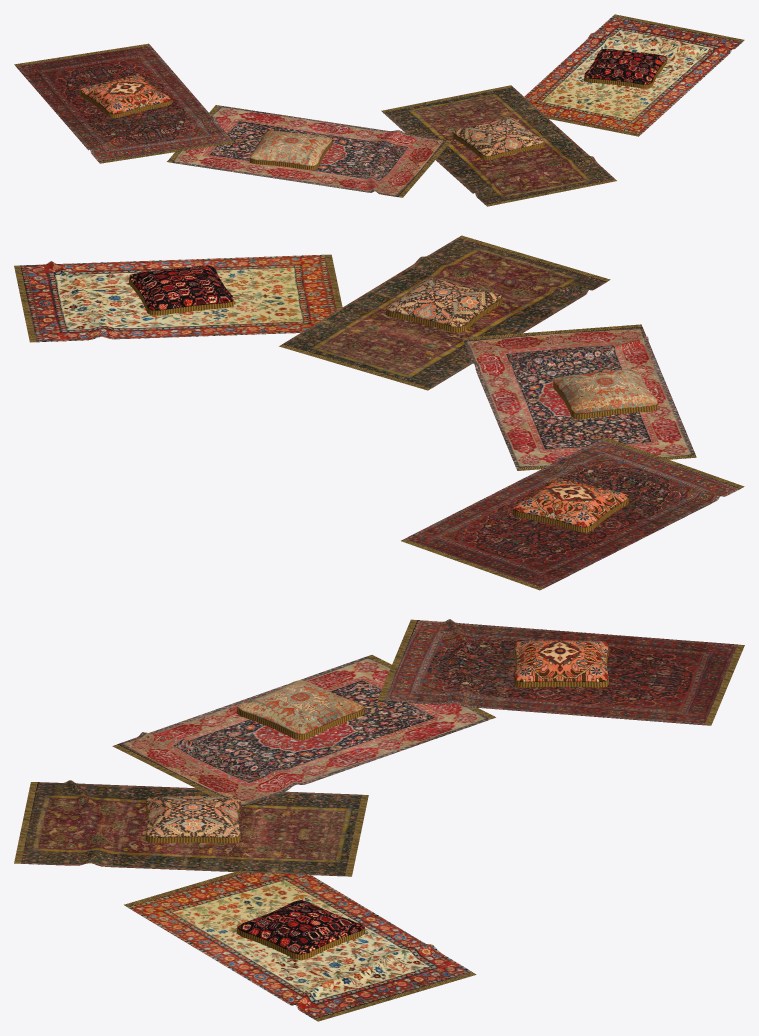
Rendered from ottoman_pillow_and_carpets_v2-transformed.glb.
The picture shows the model from 3 angles, top to bottom: view 1: azimuth 30°, elevation 25°; view 2: azimuth 150°, elevation 25°; view 3: azimuth 270°, elevation 25°; orthographic projection. The views are drawn at different scales.
Parts seen in each view (by area): view 1: Tapis_Tapis1_0, Tapis003_Tapis2_0, Tapis002_Tapis3_0, Tapis001_Tapis4_0, Coussin003_Coussin2_0, Coussin001_Coussin4_0, Coussin_Coussin1_0, Coussin002_Coussin3_0, Coussin_frange_Coussin1_0, Coussin_frange002_Coussin3_0, Coussin_frange003_Coussin2_0, Coussin_frange001_Coussin4_0; view 2: Tapis_Tapis1_0, Tapis003_Tapis2_0, Tapis002_Tapis3_0, Tapis001_Tapis4_0, Coussin003_Coussin2_0, Coussin001_Coussin4_0, Coussin_Coussin1_0, Coussin002_Coussin3_0, Coussin_frange_Coussin1_0, Coussin_frange002_Coussin3_0, Coussin_frange001_Coussin4_0, Coussin_frange003_Coussin2_0; view 3: Tapis_Tapis1_0, Tapis002_Tapis3_0, Tapis003_Tapis2_0, Tapis001_Tapis4_0, Coussin_Coussin1_0, Coussin002_Coussin3_0, Coussin003_Coussin2_0, Coussin001_Coussin4_0, Coussin_frange003_Coussin2_0, Coussin_frange001_Coussin4_0.
Boxes of the visible parts, x1=… form: Tapis_Tapis1_0: x1=14, y1=43, x2=234, y2=163; Tapis003_Tapis2_0: x1=523, y1=14, x2=744, y2=136; Tapis002_Tapis3_0: x1=381, y1=85, x2=616, y2=206; Tapis001_Tapis4_0: x1=167, y1=105, x2=451, y2=197; Coussin003_Coussin2_0: x1=584, y1=49, x2=666, y2=84; Coussin001_Coussin4_0: x1=250, y1=130, x2=331, y2=166; Coussin_Coussin1_0: x1=79, y1=75, x2=170, y2=114; Coussin002_Coussin3_0: x1=452, y1=117, x2=543, y2=156; Coussin_frange_Coussin1_0: x1=79, y1=90, x2=171, y2=118; Coussin_frange002_Coussin3_0: x1=452, y1=133, x2=544, y2=160; Coussin_frange003_Coussin2_0: x1=584, y1=58, x2=666, y2=88; Coussin_frange001_Coussin4_0: x1=249, y1=139, x2=332, y2=170; Tapis_Tapis1_0: x1=401, y1=437, x2=744, y2=590; Tapis003_Tapis2_0: x1=14, y1=254, x2=342, y2=342; Tapis002_Tapis3_0: x1=279, y1=235, x2=610, y2=390; Tapis001_Tapis4_0: x1=462, y1=324, x2=696, y2=470; Coussin003_Coussin2_0: x1=129, y1=265, x2=233, y2=310; Coussin001_Coussin4_0: x1=553, y1=369, x2=657, y2=414; Coussin_Coussin1_0: x1=513, y1=477, x2=628, y2=527; Coussin002_Coussin3_0: x1=386, y1=277, x2=502, y2=327; Coussin_frange_Coussin1_0: x1=512, y1=497, x2=629, y2=532; Coussin_frange002_Coussin3_0: x1=385, y1=297, x2=502, y2=332; Coussin_frange001_Coussin4_0: x1=553, y1=381, x2=658, y2=419; Coussin_frange003_Coussin2_0: x1=129, y1=277, x2=233, y2=315; Tapis_Tapis1_0: x1=377, y1=619, x2=744, y2=725; Tapis002_Tapis3_0: x1=14, y1=780, x2=368, y2=876; Tapis003_Tapis2_0: x1=124, y1=872, x2=476, y2=1021; Tapis001_Tapis4_0: x1=112, y1=655, x2=495, y2=807; Coussin_Coussin1_0: x1=514, y1=640, x2=608, y2=682; Coussin002_Coussin3_0: x1=146, y1=796, x2=240, y2=837; Coussin003_Coussin2_0: x1=237, y1=900, x2=364, y2=954; Coussin001_Coussin4_0: x1=237, y1=680, x2=364, y2=734; Coussin_frange003_Coussin2_0: x1=236, y1=928, x2=365, y2=960; Coussin_frange001_Coussin4_0: x1=236, y1=708, x2=365, y2=740.
Bounding box in the file's own units: 9.82 × 0.2627 × 7.54.
8 materials, 8 textured.
